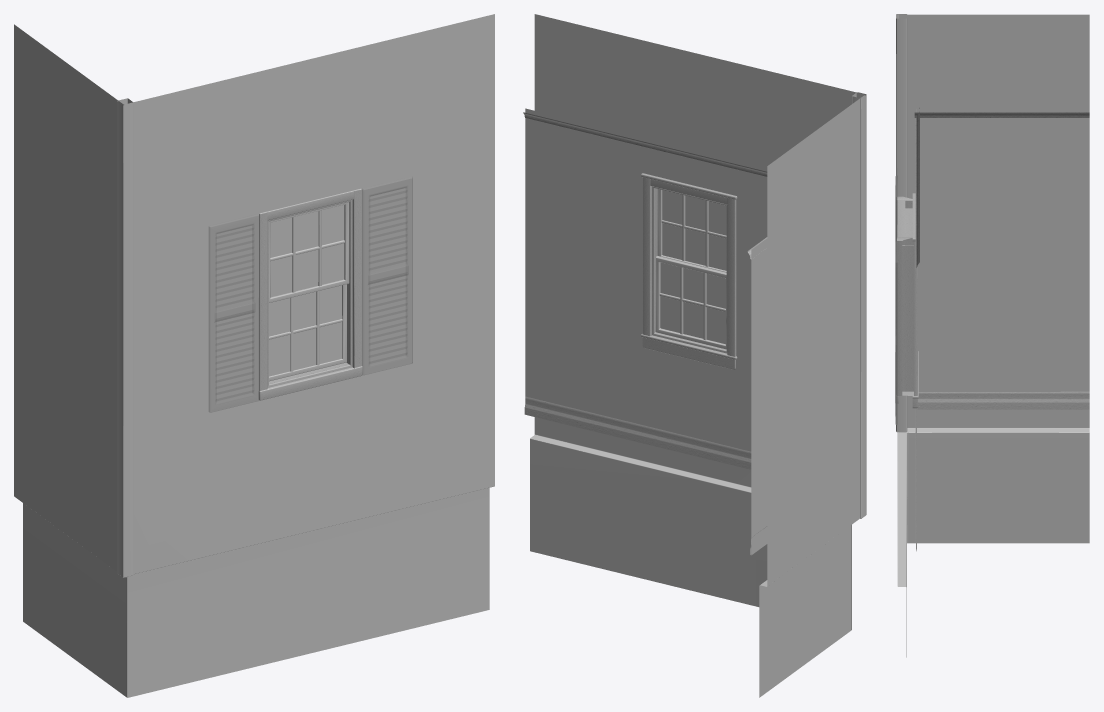
The model's file is Corner_Floor1_C1.FBX.
The picture shows the model from 3 angles, left to right: view 1: azimuth 30°, elevation 25°; view 2: azimuth 150°, elevation 25°; view 3: azimuth 270°, elevation 25°; orthographic projection. The views are drawn at different scales.
Visible parts, largest first — view 1: Corner_Floor1_C1; view 2: Corner_Floor1_C1; view 3: Corner_Floor1_C1.
Part boxes in pixels (box(x1,y1,x2,y2)): Corner_Floor1_C1: box(14, 14, 494, 697); Corner_Floor1_C1: box(523, 14, 866, 697); Corner_Floor1_C1: box(895, 14, 1089, 657).
Size of the model in its own units: 288 by 149 by 443.
